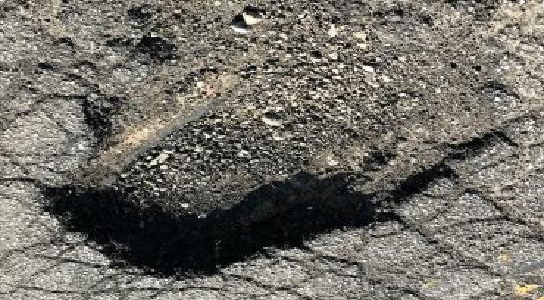pothole: (34, 0, 530, 282)
